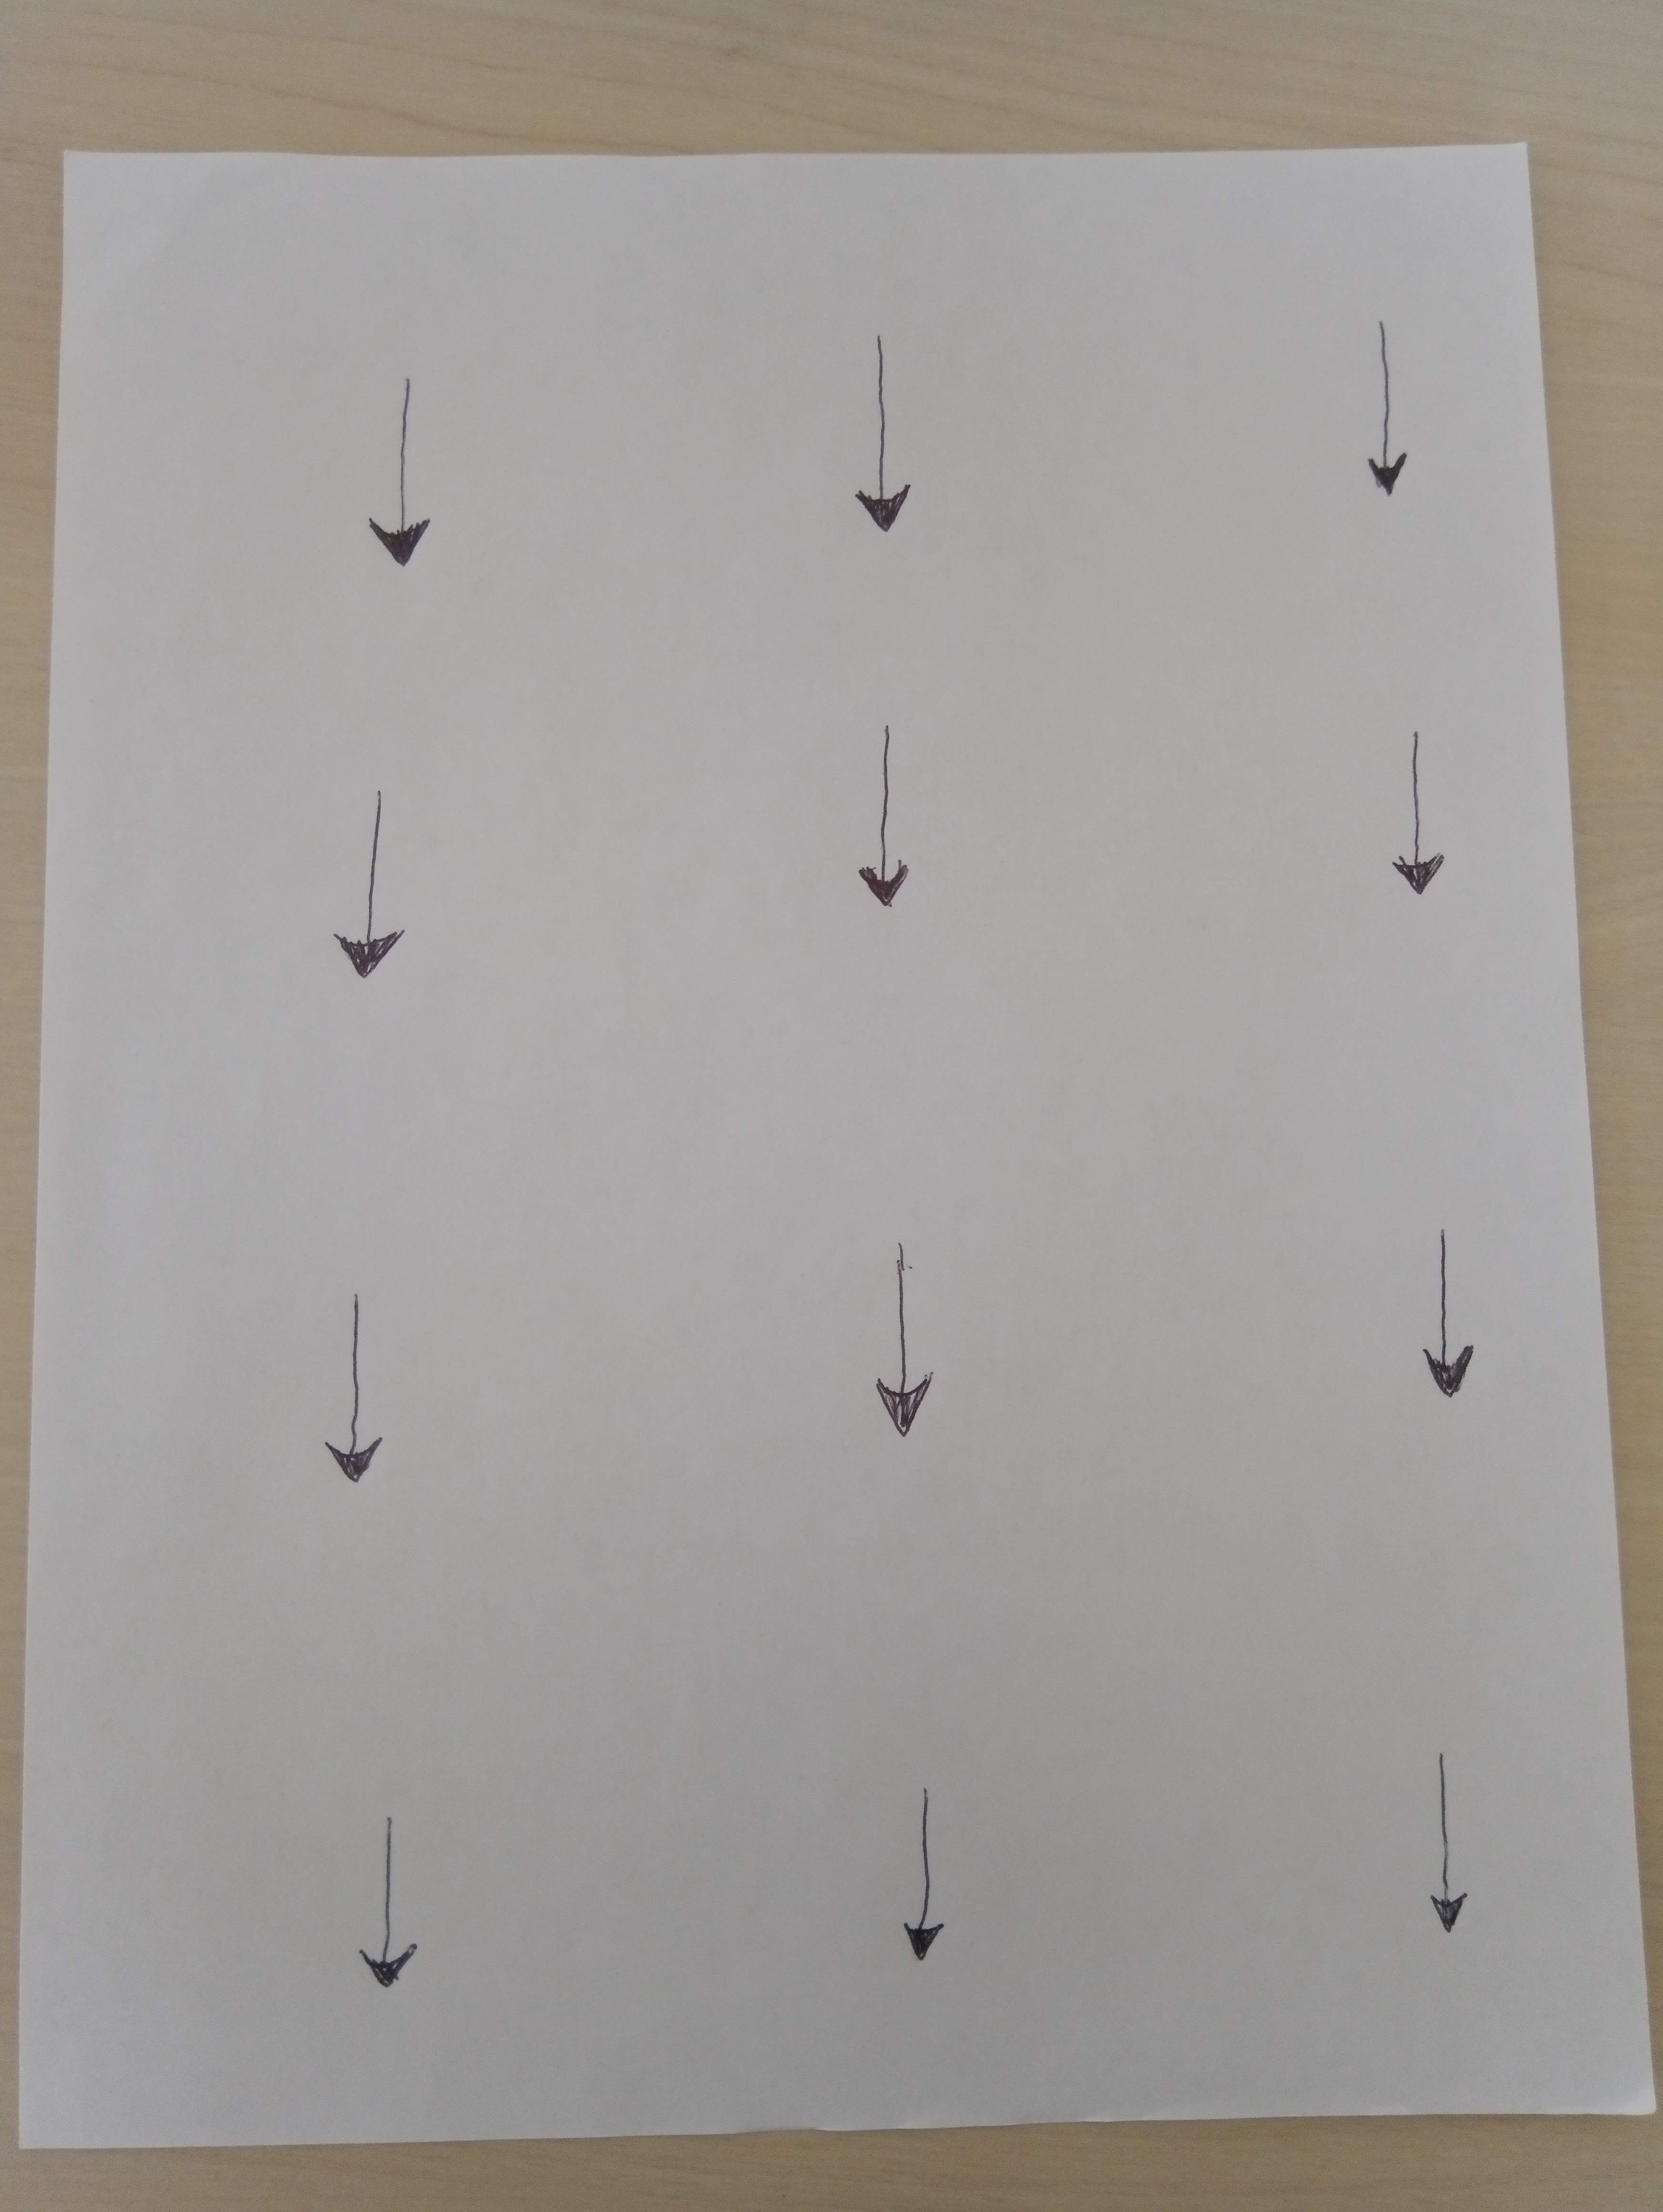arrow_line_down: (1375, 1196, 1515, 1426), (335, 1783, 473, 2011), (292, 1280, 430, 1479), (1384, 1739, 1506, 1959), (344, 360, 461, 587), (1333, 304, 1453, 512), (851, 1222, 959, 1453), (851, 1774, 985, 1959), (321, 777, 430, 1002), (1380, 719, 1501, 920), (838, 330, 942, 564), (856, 719, 950, 920)
